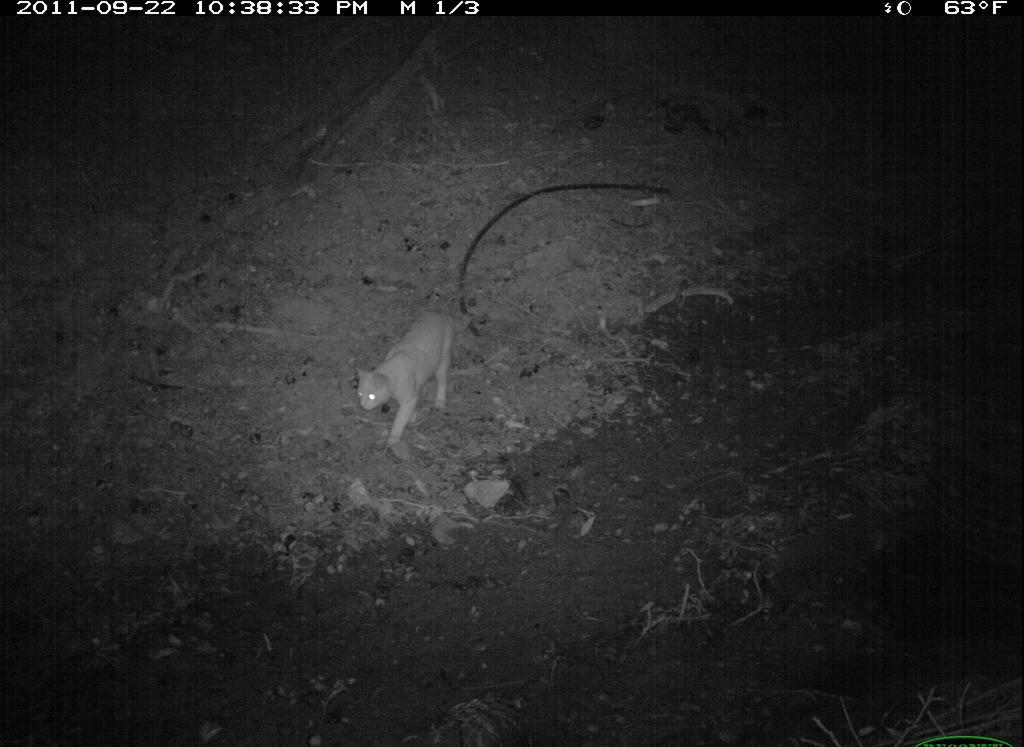cat: (350, 303, 484, 451)
